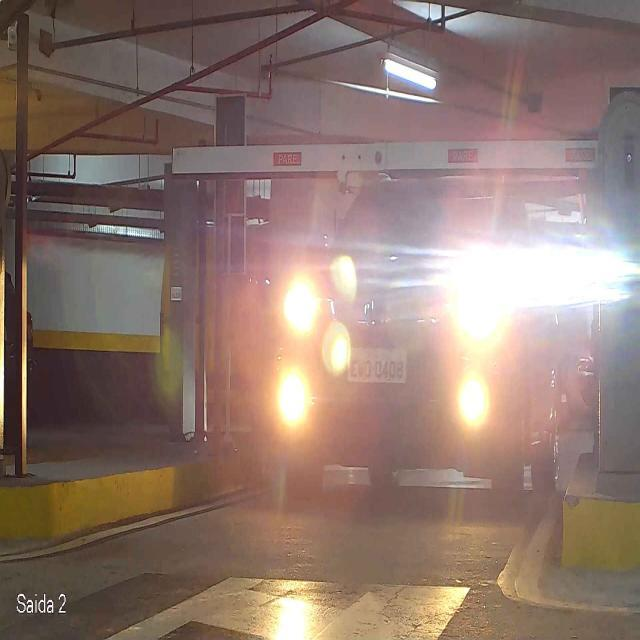old_plate: (343, 344, 410, 385)
